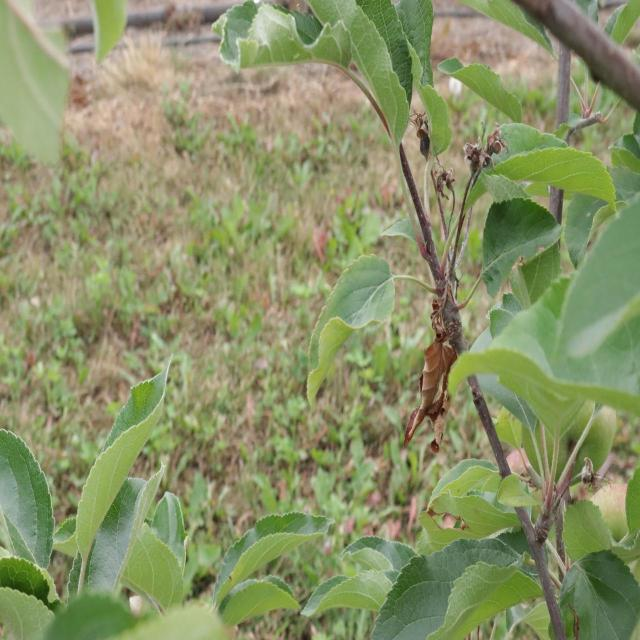-FireBlight-: (418, 281, 454, 434)
